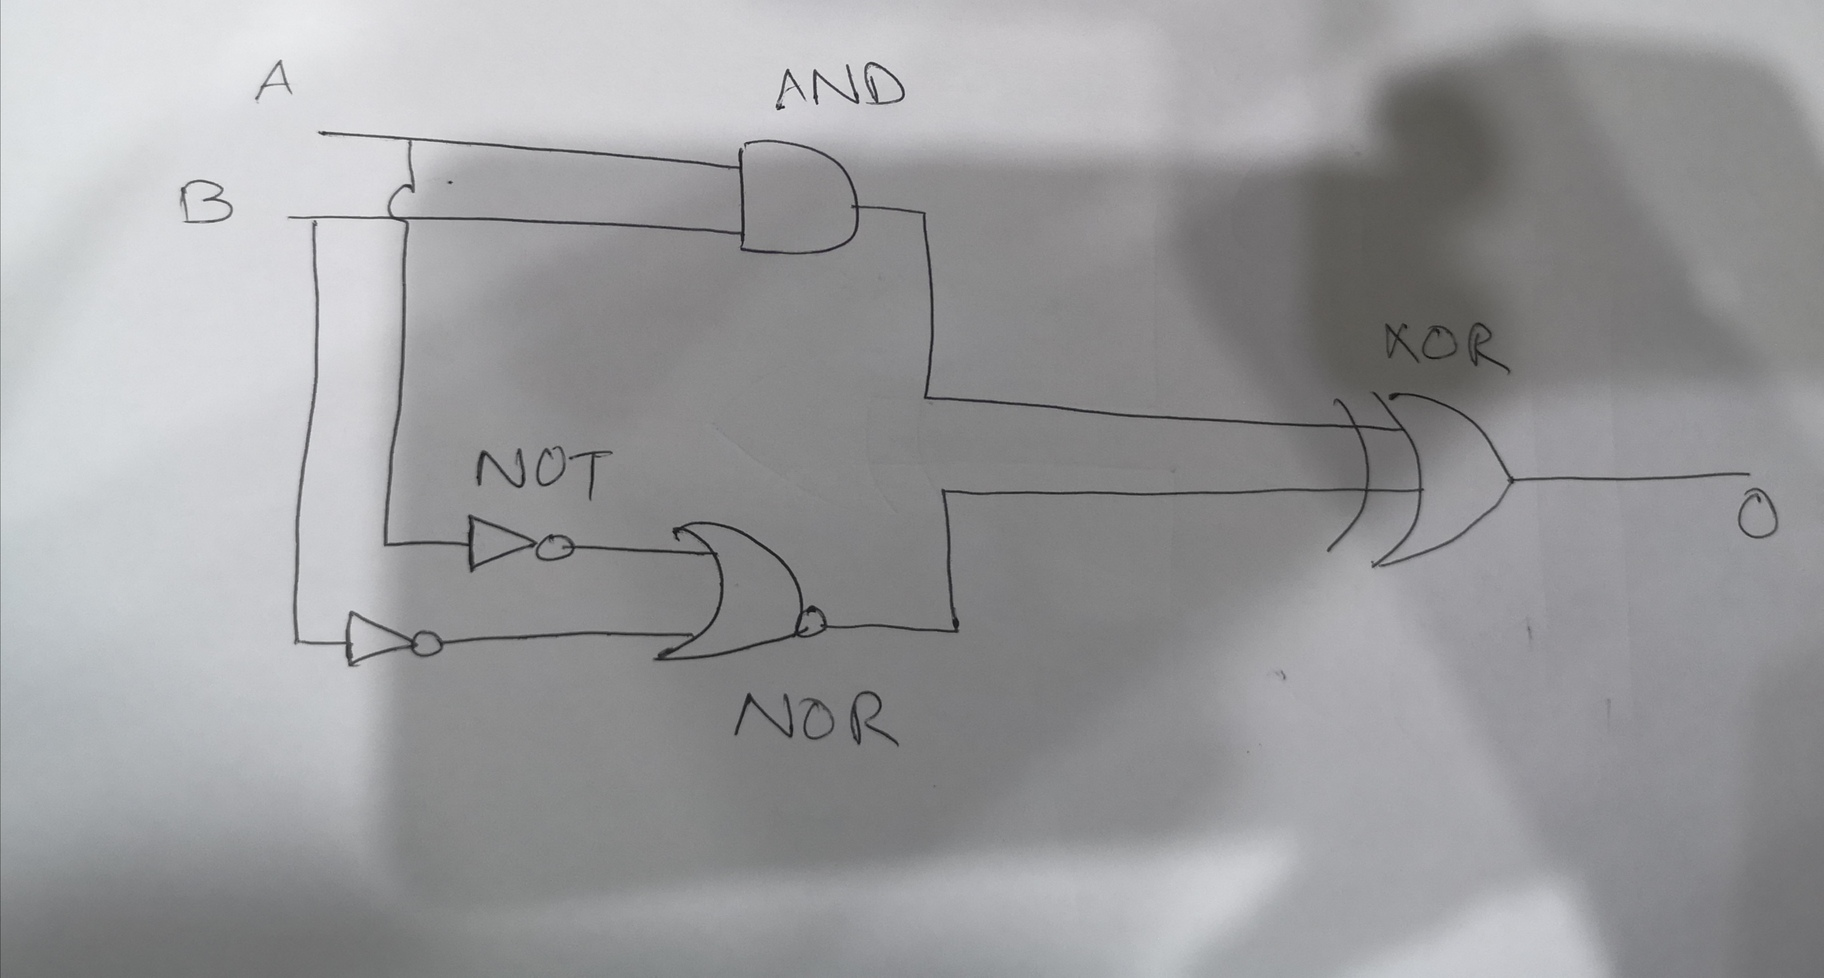and: (733, 135, 872, 263)
crossover: (380, 178, 423, 232)
junction: (937, 611, 969, 644), (910, 200, 937, 227), (933, 480, 957, 500), (305, 211, 327, 232), (401, 129, 419, 151), (288, 631, 306, 651), (376, 533, 394, 554), (918, 390, 935, 408)
nor: (643, 513, 836, 670)
not: (338, 601, 448, 674), (461, 510, 580, 576)
terminal: (309, 123, 334, 144), (1735, 462, 1758, 480), (281, 210, 297, 227)
text: (724, 680, 904, 754), (466, 440, 619, 506), (1374, 315, 1518, 377), (772, 59, 910, 113), (1734, 485, 1784, 544), (177, 175, 234, 226), (250, 55, 296, 105)
xor: (1315, 386, 1521, 576)
